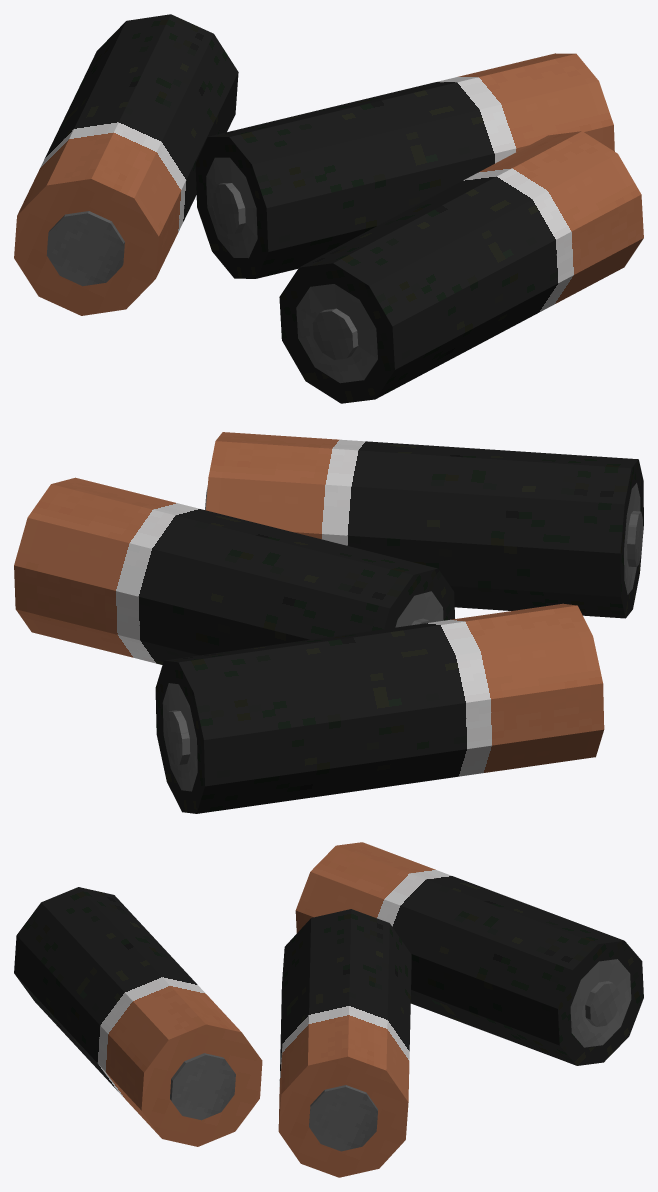
Rendered from battery.glb.
3 renders of one model, top to bottom at view 1: azimuth 30°, elevation 25°; view 2: azimuth 150°, elevation 25°; view 3: azimuth 270°, elevation 25°, orthographic. The views are drawn at different scales.
Parts seen in each view (by area): view 1: Cylinder.001, Cylinder, Cylinder.003; view 2: Cylinder.003, Cylinder.001, Cylinder; view 3: Cylinder.003, Cylinder.001, Cylinder.
Part boxes in pixels (<box>): Cylinder.001: <box>279,131,643,403</box>; Cylinder: <box>195,53,614,278</box>; Cylinder.003: <box>14,14,238,315</box>; Cylinder.003: <box>155,603,604,813</box>; Cylinder.001: <box>205,432,643,618</box>; Cylinder: <box>14,477,454,664</box>; Cylinder.003: <box>295,842,643,1065</box>; Cylinder.001: <box>14,887,262,1146</box>; Cylinder: <box>278,909,411,1177</box>.
Size of the model in its own units: 1.06 by 0.2559 by 1.2.
1 material, 1 textured.
